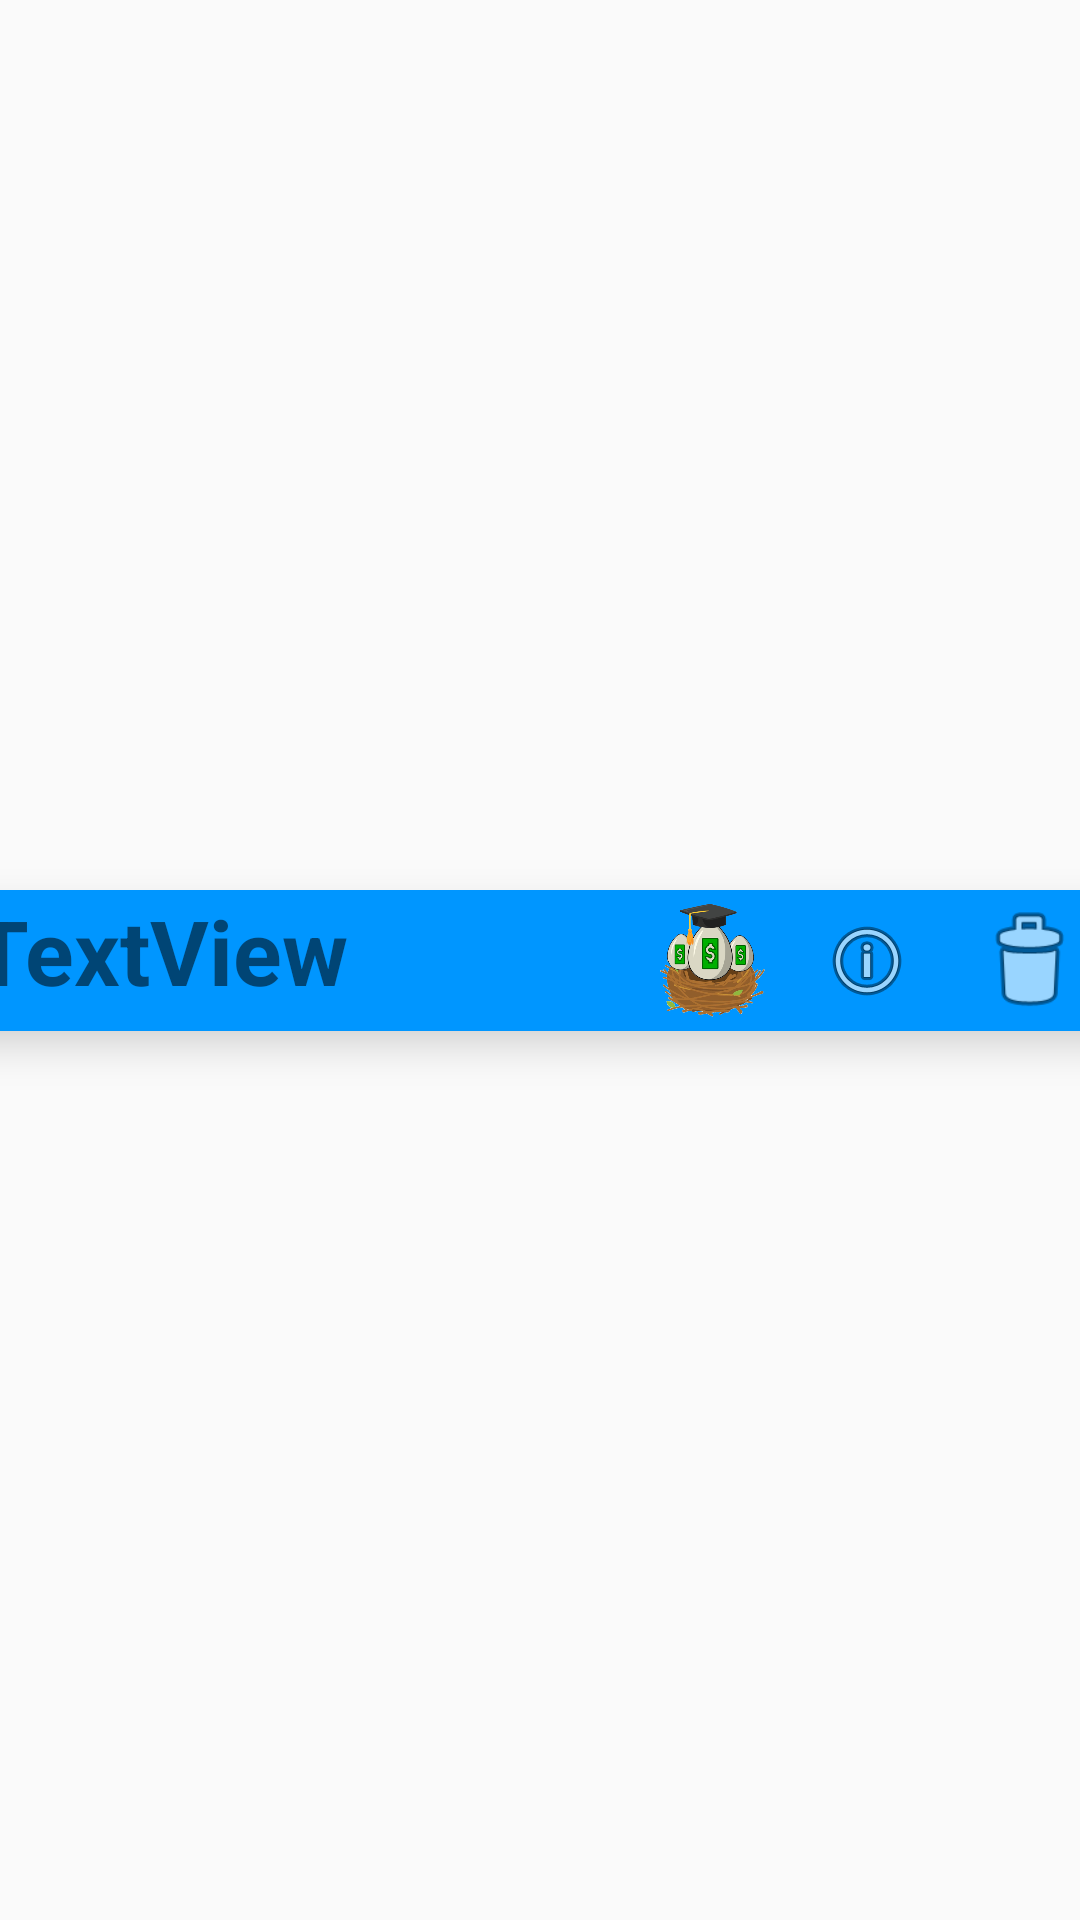

Screen size 1080x1920. Icon name, then its box in pixels as (x1, y1, x2, y2):
info details: (832, 926, 902, 996)
studentnesticon: (660, 904, 765, 1017)
